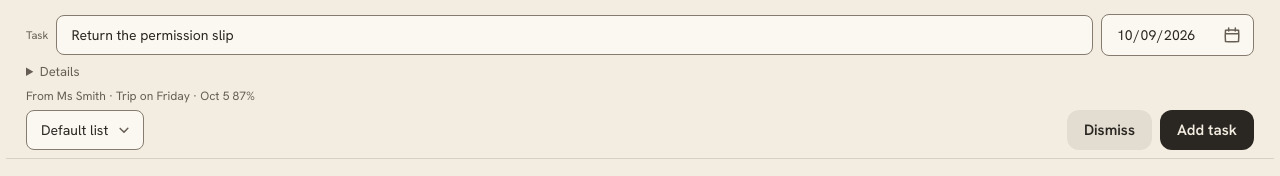
a task suggestion › disables both buttons while a request is out
Step 1. Click the button "Add task" → click(1207, 130), box [1160,110,1254,150]
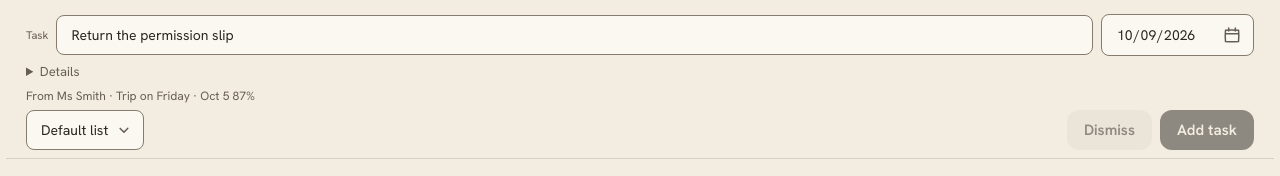
Expected: the button "Add task" is disabled, [1160,110,1254,150]
Expected: the button "Dismiss" is disabled, [1067,110,1152,150]
